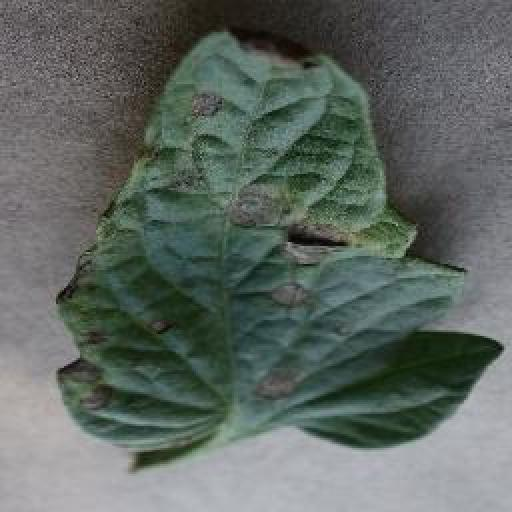disease_tomato: (57, 27, 500, 452)
